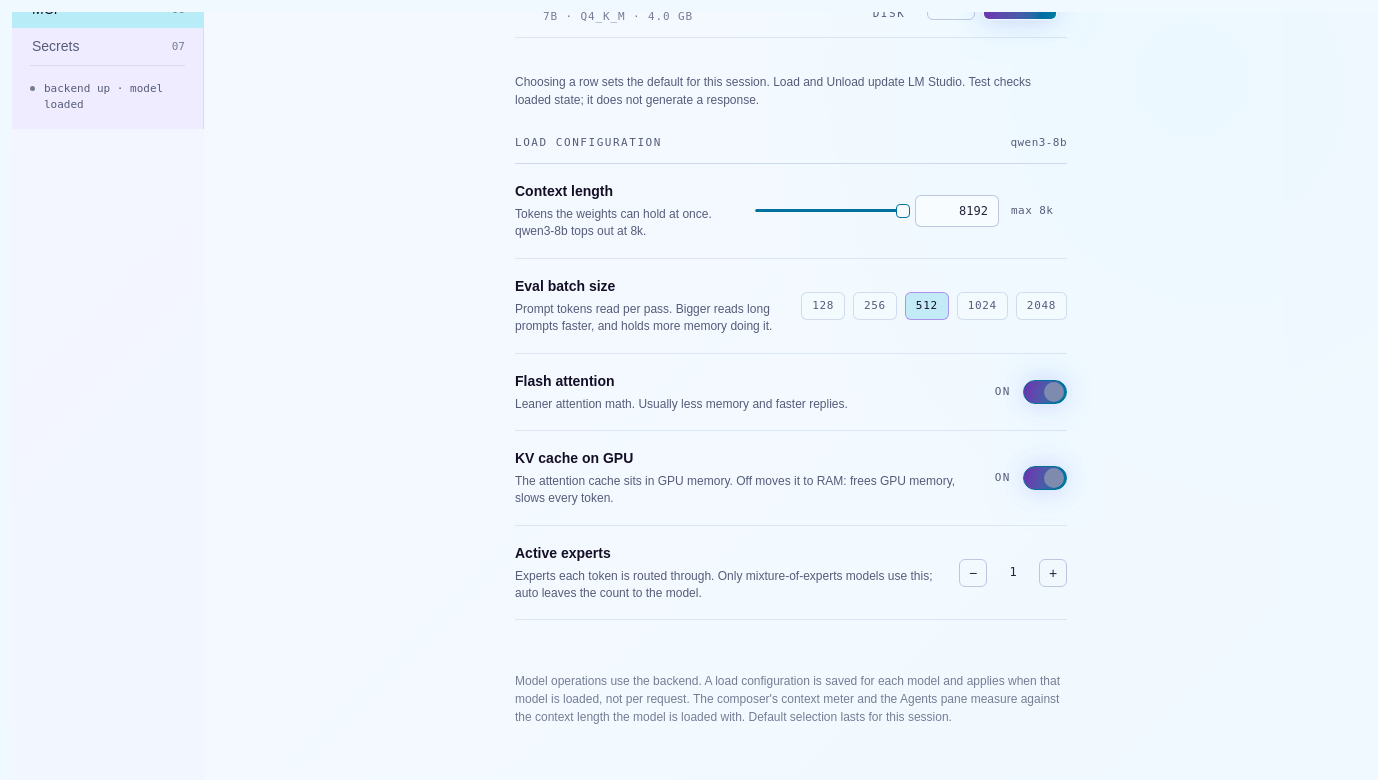
Test: ModelLoadConfigurationPanel › an edit › removes the model's own expert count on a step down from one expert, leaving the count to the model
(page scrolled)
Expected: the heading "load configuration" is shown, [515,135,662,151]
Click the button named "Fewer experts" at (973, 573), box [959,559,987,587]
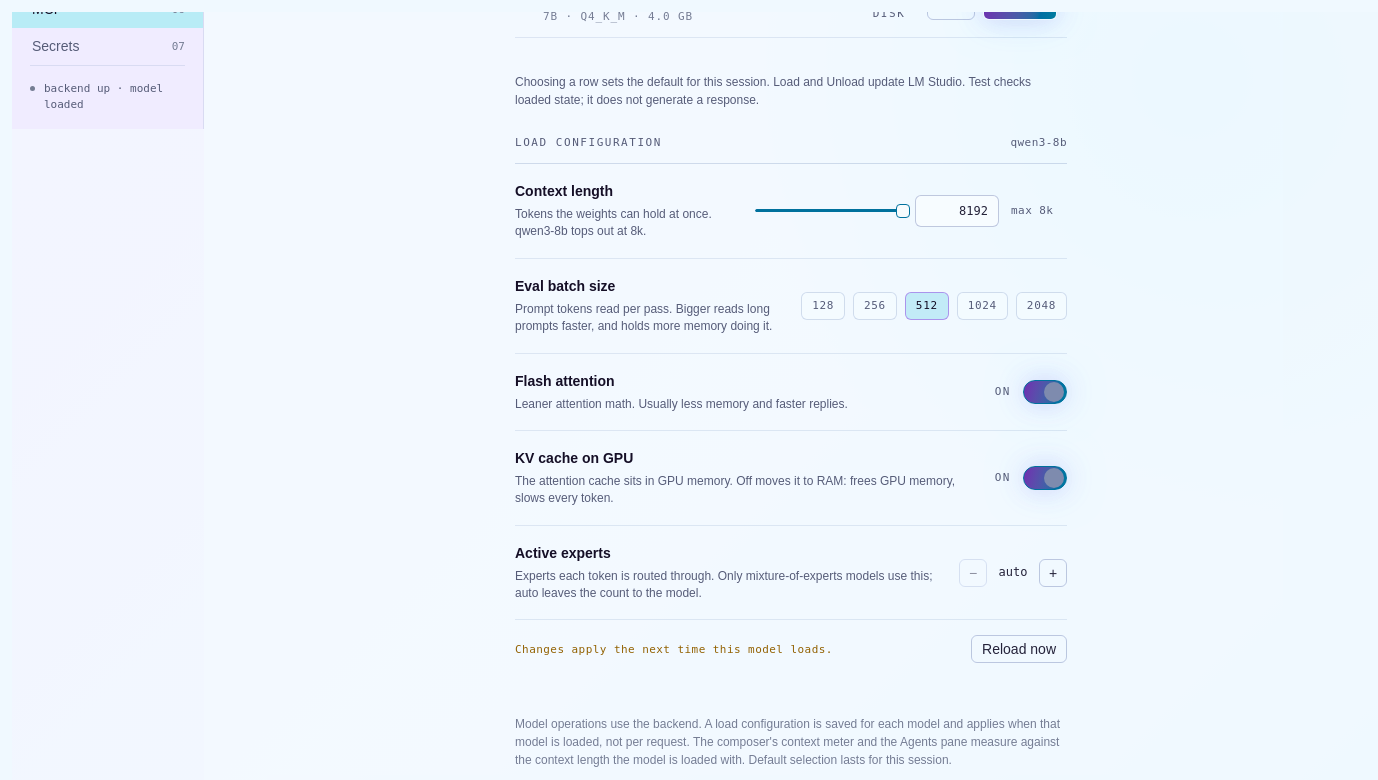
Now the text named "Active experts" reads "auto", box [998,565,1027,579]
